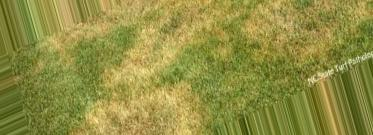patch: (108, 93, 172, 130), (122, 65, 153, 94), (78, 108, 111, 135), (177, 99, 198, 135), (146, 46, 167, 55), (107, 78, 119, 92), (62, 39, 82, 46)
